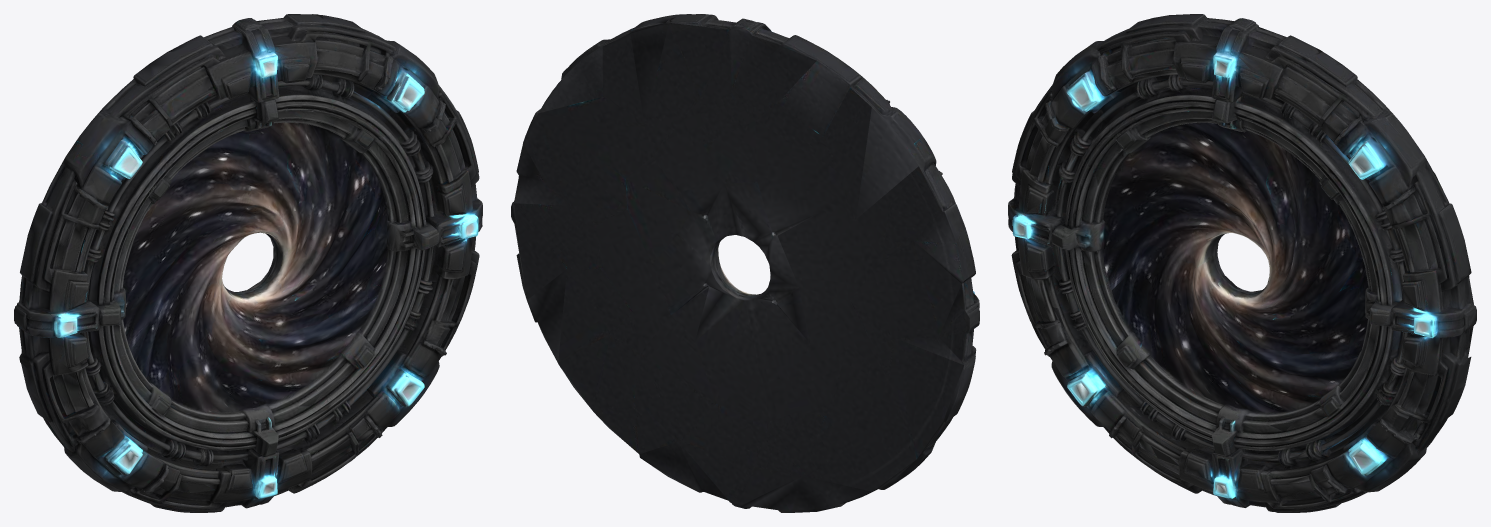
Rendered from portal.glb.
3 views of the same model, side by side, from view 1: azimuth 30°, elevation 25°; view 2: azimuth 150°, elevation 25°; view 3: azimuth 330°, elevation 25° (orthographic).
Visible parts, largest first — view 1: portal; view 2: portal; view 3: portal.
Boxes of the visible parts, <box> form: portal: <box>14,14,482,512</box>; portal: <box>511,14,979,512</box>; portal: <box>1008,14,1476,512</box>.
Size of the model in its own units: 1.9 by 1.9 by 0.2181.
1 material, 1 textured.
